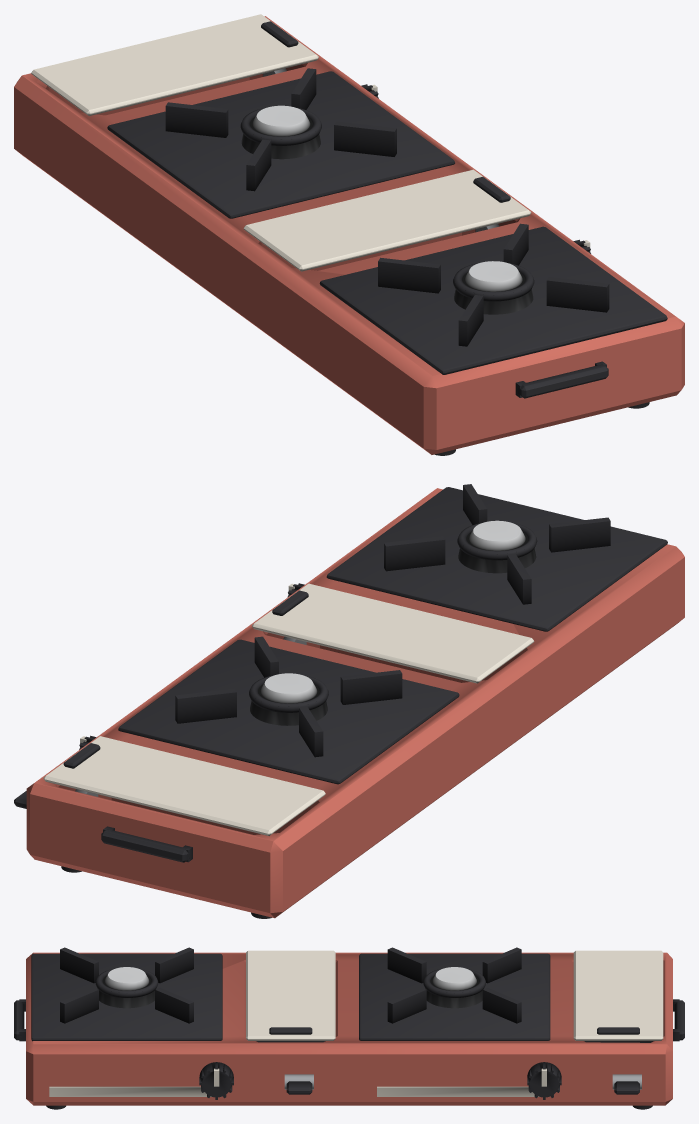
File: kit_stove2.glb
The picture shows the model from 3 angles, top to bottom: view 1: azimuth 30°, elevation 25°; view 2: azimuth 150°, elevation 25°; view 3: azimuth 270°, elevation 25°; orthographic projection. The views are drawn at different scales.
Parts seen in each view (by area): view 1: PART, COVER, COVER_B; view 2: PART, COVER, COVER_B; view 3: PART, COVER_B, COVER, KNOB_fire, KNOB_fire_B, LEVER, LEVER_B.
Boxes of the visible parts, x1,y1,x2,y2 form: PART: (14, 16, 684, 455); COVER: (243, 169, 531, 271); COVER_B: (31, 14, 318, 115); PART: (26, 484, 684, 918); COVER: (252, 583, 534, 683); COVER_B: (43, 736, 325, 835); PART: (14, 947, 684, 1109); COVER_B: (573, 950, 663, 1040); COVER: (246, 950, 335, 1040); KNOB_fire: (199, 1062, 233, 1099); KNOB_fire_B: (527, 1062, 561, 1099); LEVER: (284, 1074, 313, 1094); LEVER_B: (612, 1074, 641, 1094).
Size of the model in its own units: 0.302 by 0.12 by 0.778.
